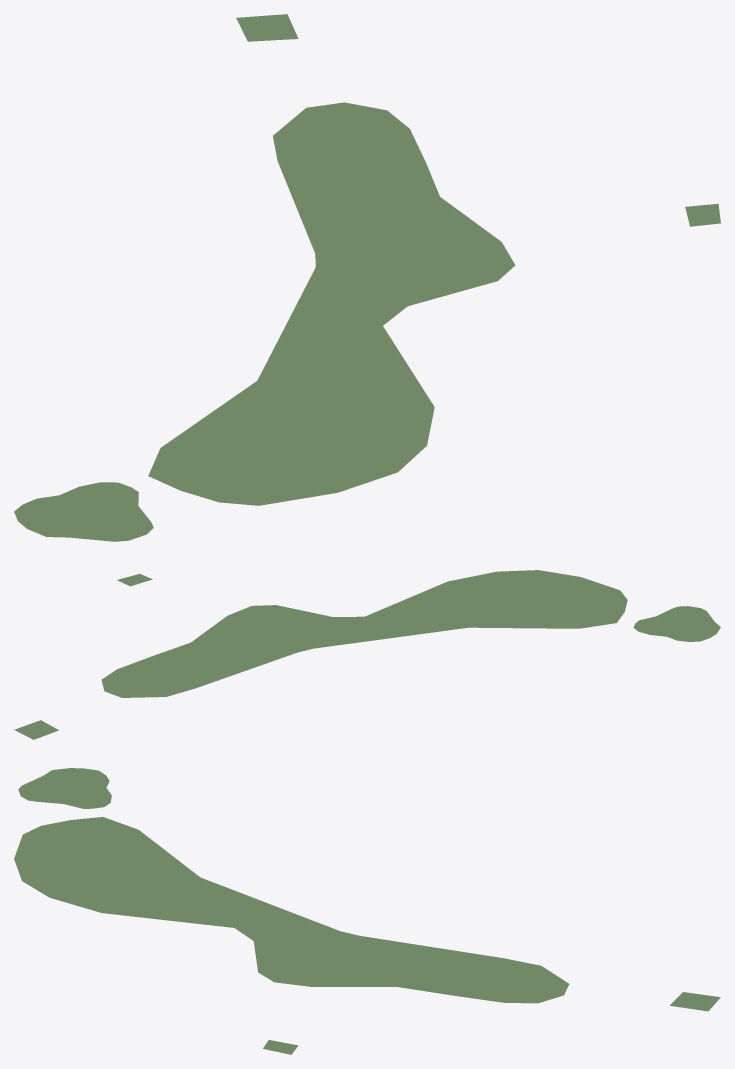
File: c_1646_17818_parks.glb
The picture shows the model from 3 angles, top to bottom: view 1: azimuth 30°, elevation 25°; view 2: azimuth 150°, elevation 25°; view 3: azimuth 270°, elevation 25°; orthographic projection. The views are drawn at different scales.
Parts seen in each view (by area): view 1: geometry_0; view 2: geometry_0; view 3: geometry_0.
Part boxes in pixels (box(x1,y1,x2,y2)): geometry_0: box(14, 14, 720, 541); geometry_0: box(14, 570, 720, 739); geometry_0: box(14, 768, 720, 1054).
Size of the model in its own units: 162 by 0 by 169.
